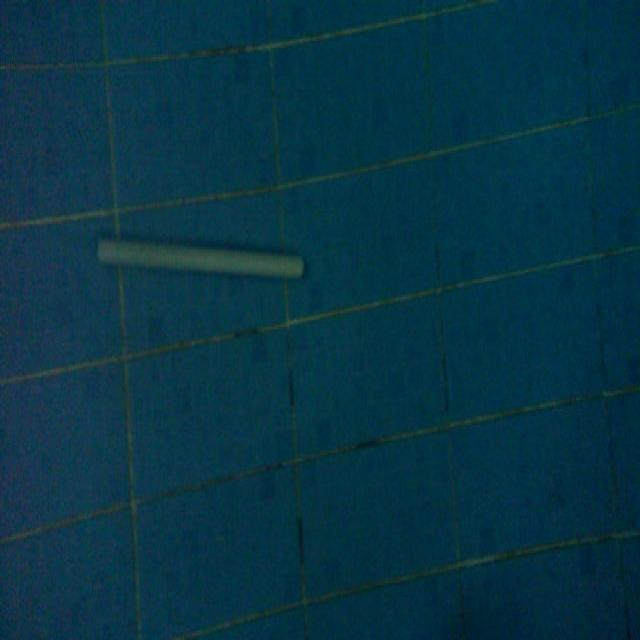Cube: (95, 228, 306, 284)
